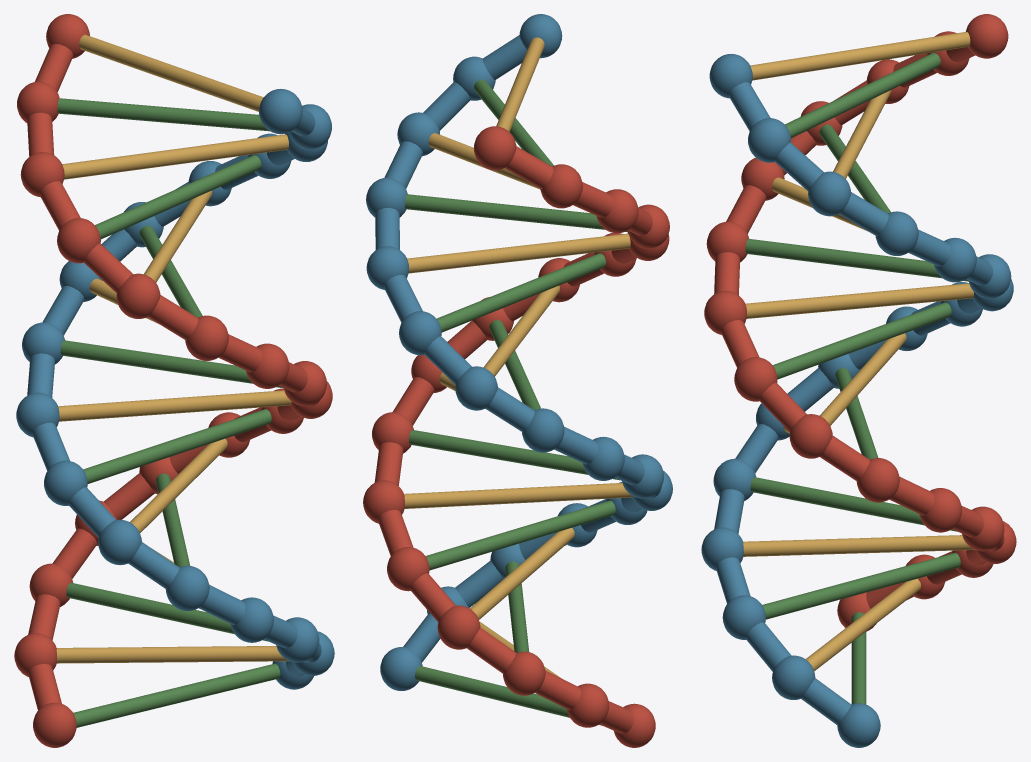
The model's file is wp-helice-d-adn-schematique.glb.
3 views of the same model, side by side, from view 1: azimuth 30°, elevation 25°; view 2: azimuth 150°, elevation 25°; view 3: azimuth 270°, elevation 25° (orthographic). The views are drawn at different scales.
Parts seen in each view (by area): view 1: wp-helice-d-adn-schematique; view 2: wp-helice-d-adn-schematique; view 3: wp-helice-d-adn-schematique.
Boxes of the visible parts, bbox=[...] form: wp-helice-d-adn-schematique: bbox=[14, 14, 334, 747]; wp-helice-d-adn-schematique: bbox=[363, 14, 672, 747]; wp-helice-d-adn-schematique: bbox=[701, 14, 1016, 747].
Size of the model in its own units: 0.35 by 0.8 by 0.35.
